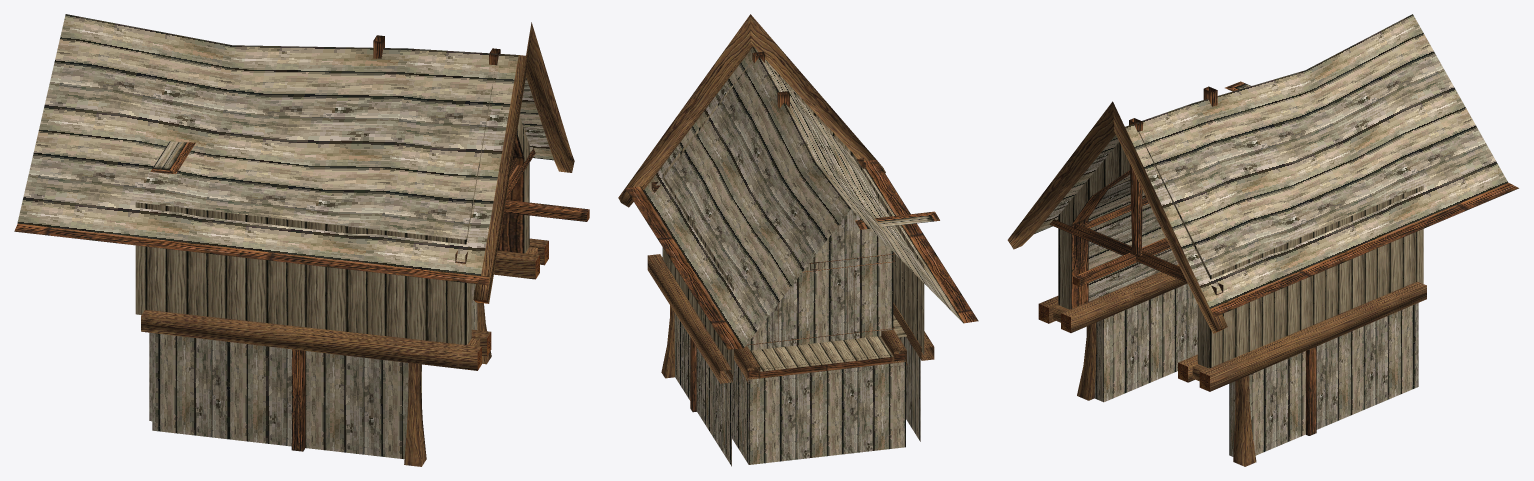
The model's file is LAKETOWN_EXTERIOR_PS_LT_BOATHOUSE93837__GX.fbx.
3 renders of one model, left to right at view 1: azimuth 30°, elevation 25°; view 2: azimuth 150°, elevation 25°; view 3: azimuth 270°, elevation 25°, orthographic. The views are drawn at different scales.
Visible parts, largest first — view 1: LAKETOWN_EXTERIOR_PS_LT_BOATHOUSE93837__GX; view 2: LAKETOWN_EXTERIOR_PS_LT_BOATHOUSE93837__GX; view 3: LAKETOWN_EXTERIOR_PS_LT_BOATHOUSE93837__GX.
Part boxes in pixels (x1,y1,x2,y2): LAKETOWN_EXTERIOR_PS_LT_BOATHOUSE93837__GX: [14, 14, 589, 466]; LAKETOWN_EXTERIOR_PS_LT_BOATHOUSE93837__GX: [618, 14, 978, 466]; LAKETOWN_EXTERIOR_PS_LT_BOATHOUSE93837__GX: [1007, 14, 1518, 466].
Size of the model in its own units: 131338 by 99307 by 131338.
9 materials, 9 textured.
